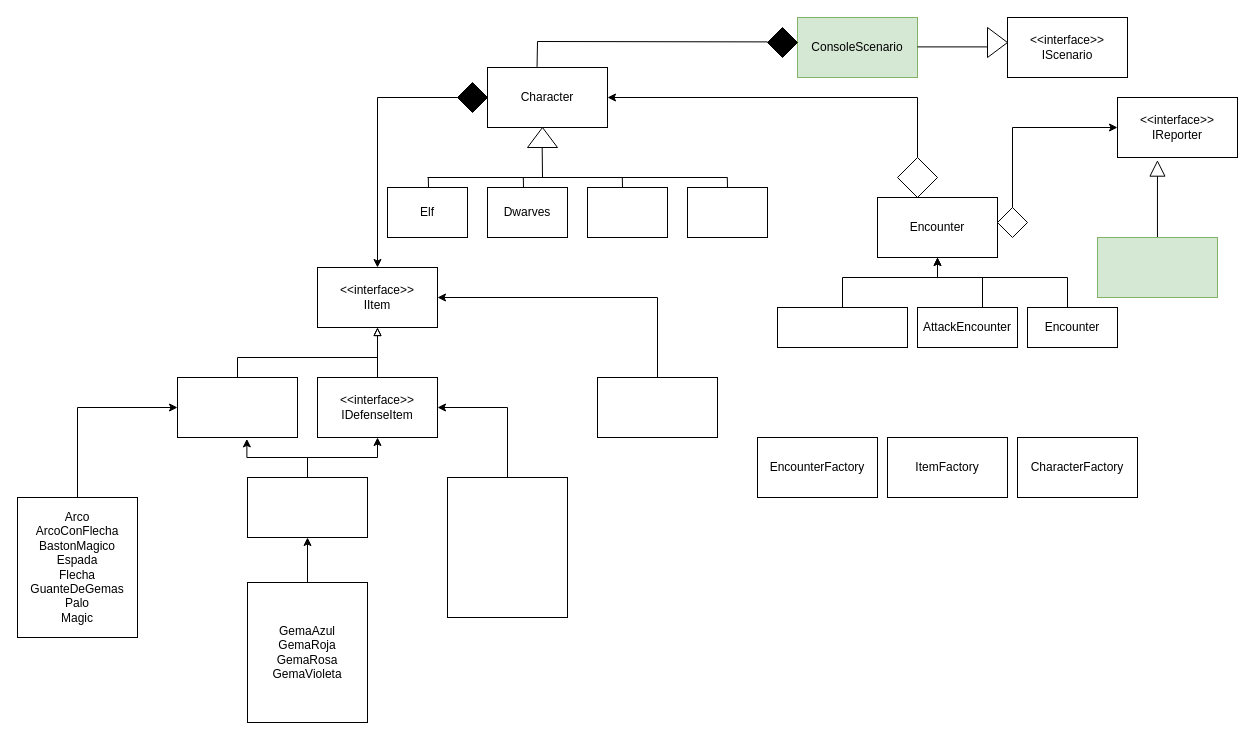
This 1255x740 diagram has some shape labels left out. The centre of each missing label's shape, as x and y in pixels:
"<<interface>> IAttackItem" belongs at pixel 237 407.
"<<interface>> IGemas" belongs at pixel 307 507.
"ConsoleReporter" belongs at pixel 1157 267.
"Coraza Robes Robes" belongs at pixel 507 547.
"ExchangeEncounter" belongs at pixel 842 327.
"RandomObjects" belongs at pixel 657 407.
"Troll" belongs at pixel 727 212.
"Wizard" belongs at pixel 627 212.
